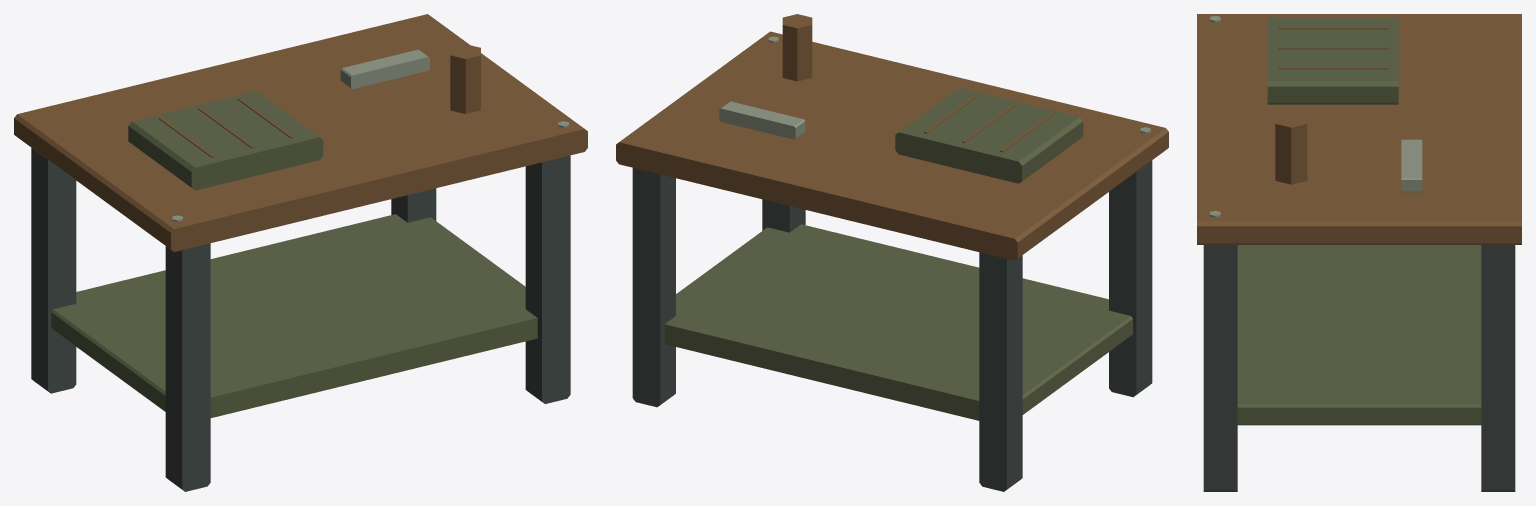
Rendered from CraftingBench.gltf.
3 views of the same model, side by side, from view 1: azimuth 30°, elevation 25°; view 2: azimuth 150°, elevation 25°; view 3: azimuth 270°, elevation 25° (orthographic). The views are drawn at different scales.
Visible parts, largest first — view 1: CraftingBench; view 2: CraftingBench; view 3: CraftingBench.
Boxes of the visible parts, x1,y1,x2,y2 form: CraftingBench: [14, 14, 587, 491]; CraftingBench: [616, 14, 1168, 491]; CraftingBench: [1197, 14, 1521, 491].
Bounding box in the file's own units: 0.95 × 0.72 × 0.62.
